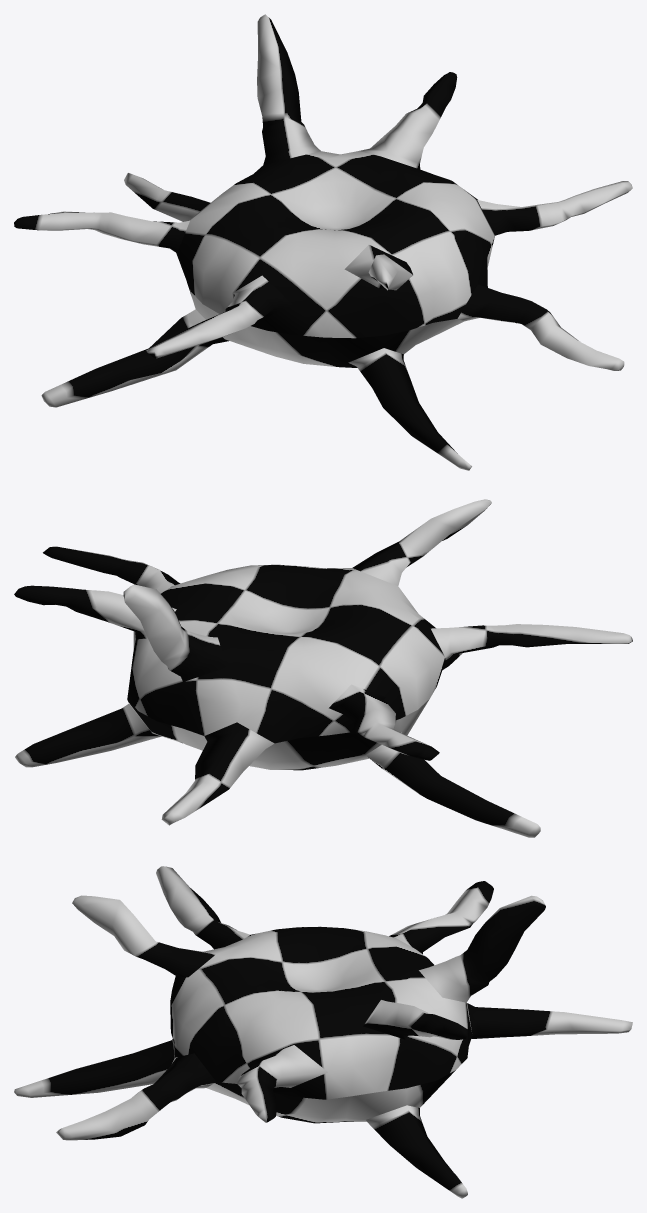
Rendered from lordakia_boss.obj.
3 renders of one model, top to bottom at view 1: azimuth 30°, elevation 25°; view 2: azimuth 150°, elevation 25°; view 3: azimuth 270°, elevation 25°, orthographic. The views are drawn at different scales.
Visible parts, largest first — view 1: lordakia-idle; view 2: lordakia-idle; view 3: lordakia-idle.
Part boxes in pixels (left/top/right/bottom): lordakia-idle: left=14, top=14, right=632, bottom=470; lordakia-idle: left=14, top=499, right=632, bottom=837; lordakia-idle: left=14, top=866, right=632, bottom=1198.
Bounding box in the file's own units: 110 × 48.27 × 114.
1 material, 1 textured.
